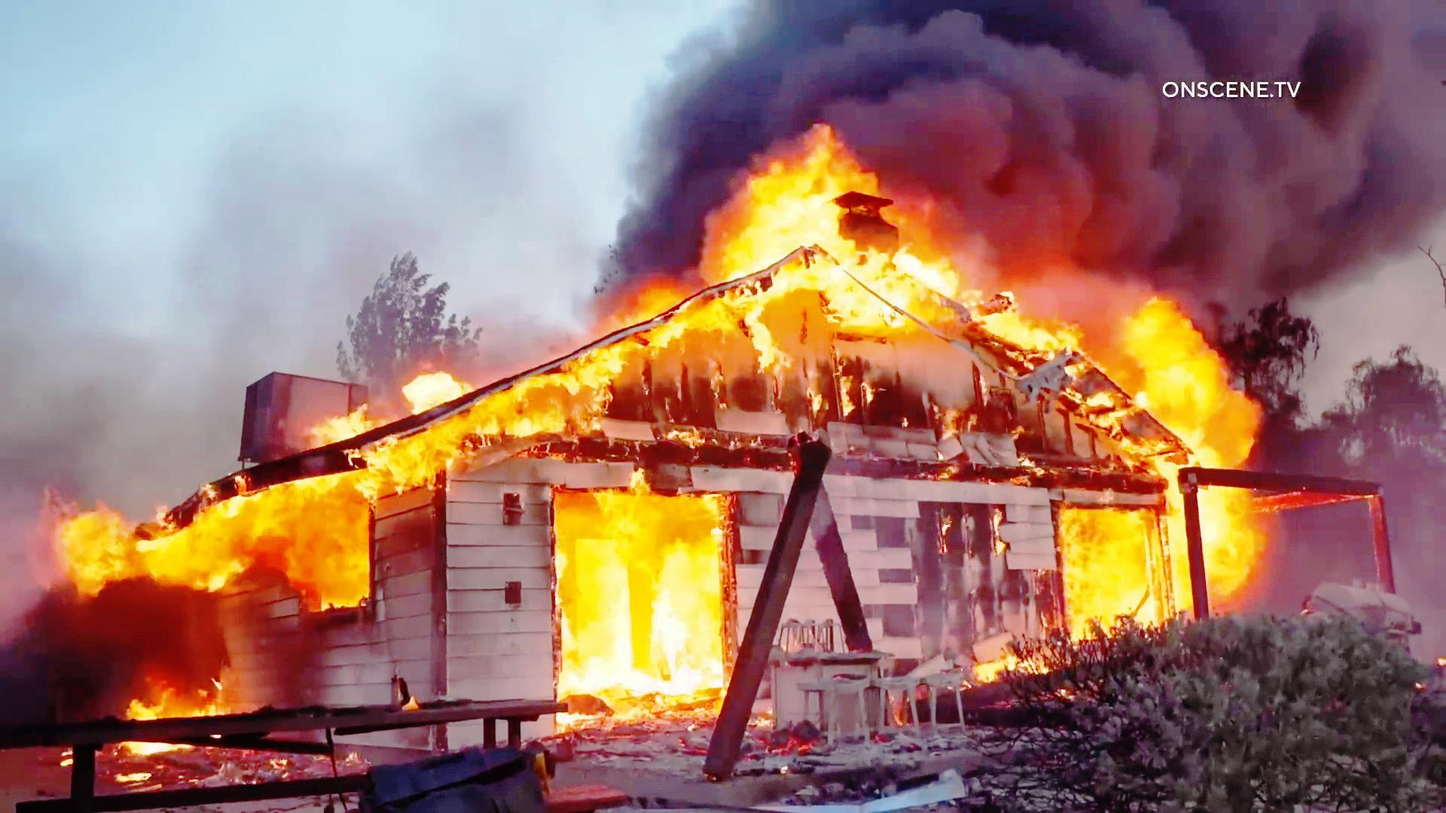fire: (1042, 330, 1246, 607), (87, 463, 377, 593), (748, 140, 936, 329), (561, 478, 719, 685)
smoke: (1040, 120, 1397, 311)
